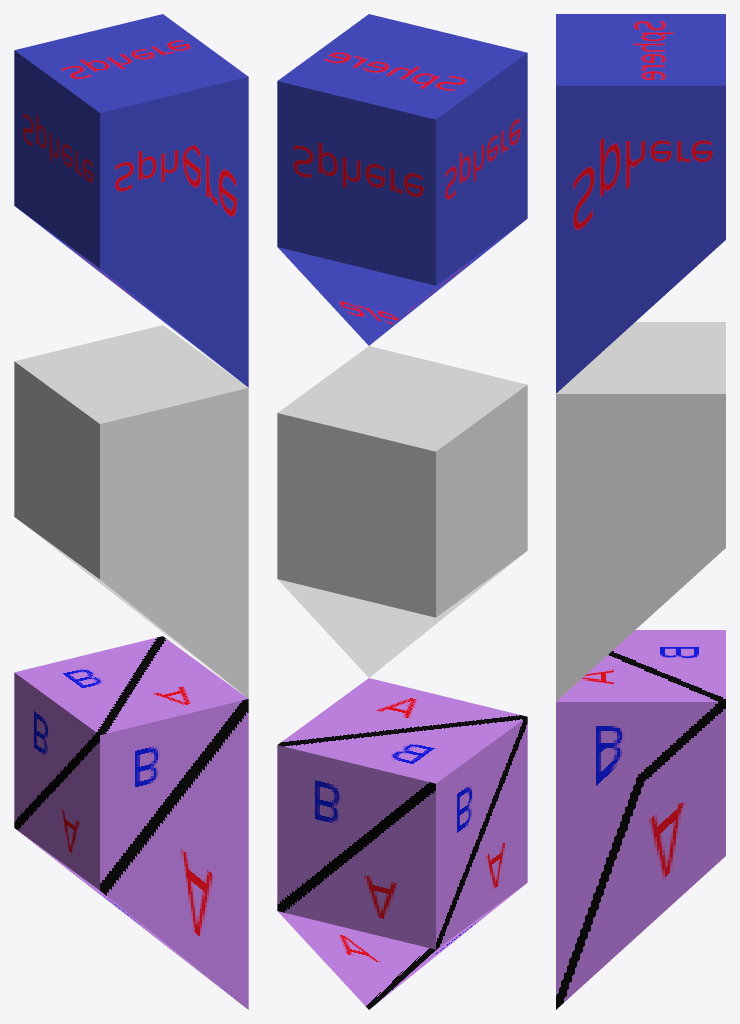
The model's file is three_meshes_two_materials_one_no_material.gltf.
The picture shows the model from 3 angles, left to right: view 1: azimuth 30°, elevation 25°; view 2: azimuth 150°, elevation 25°; view 3: azimuth 270°, elevation 25°; orthographic projection. The views are drawn at different scales.
Bounding box in the file's own units: 1 × 6 × 1.
2 materials, 2 textured.
